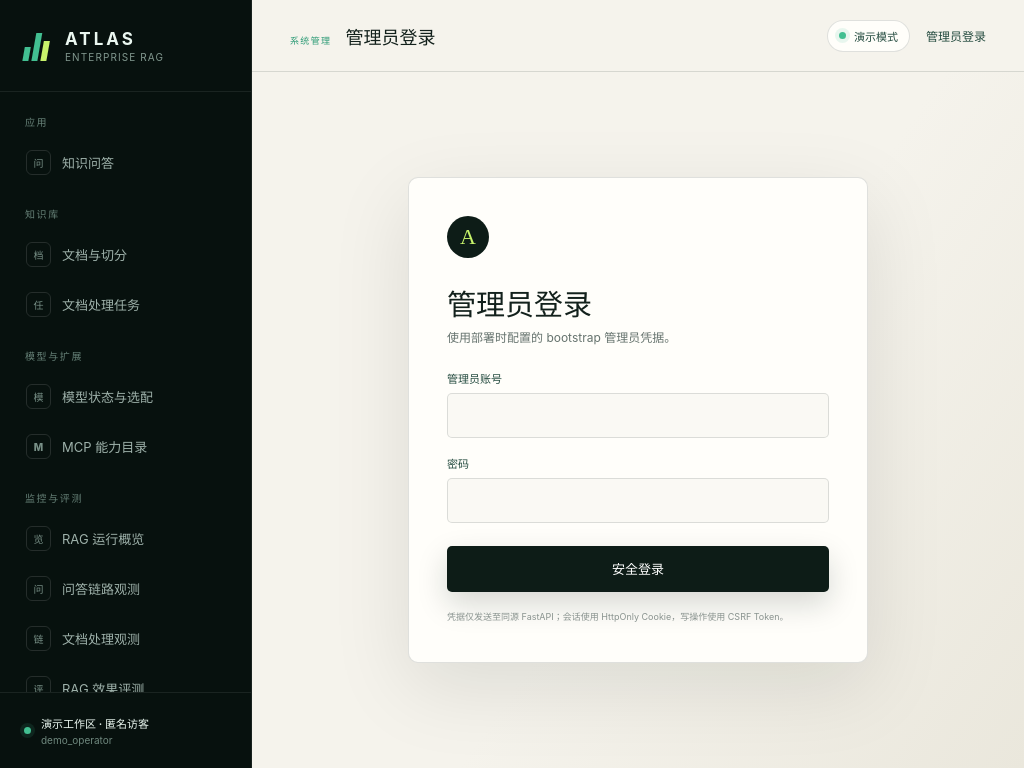
application shell and authorization › logs in and returns to the originally requested system route
The width and height of the screenshot is (1024, 768).
In the field named "email": (638, 415) [447,393,829,438], type "admin@example.test"
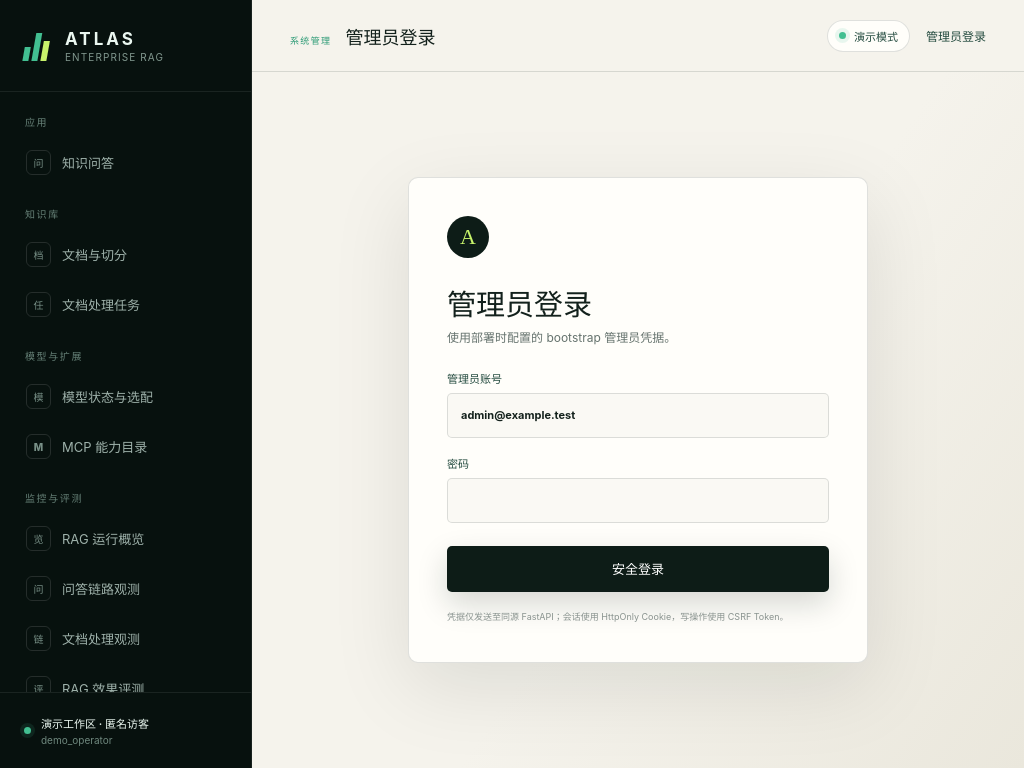
In the password field named "password": (638, 500) [447,478,829,523], type "correct-password"
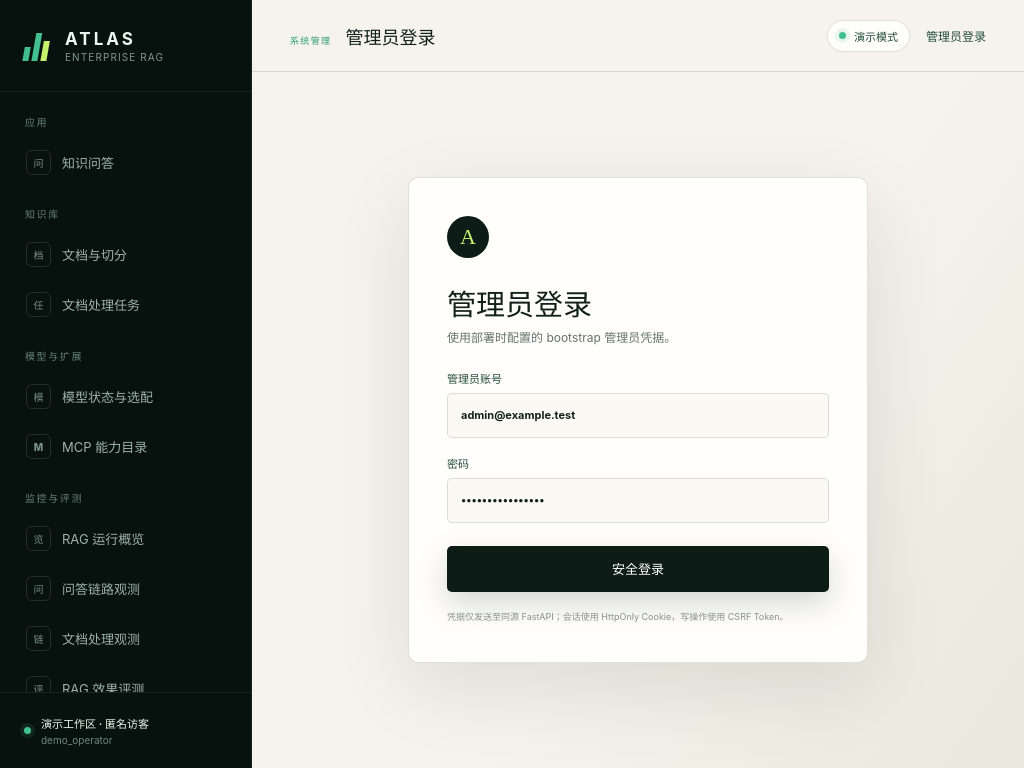
Submit the form with test id "login-form", box [408,177,868,663]
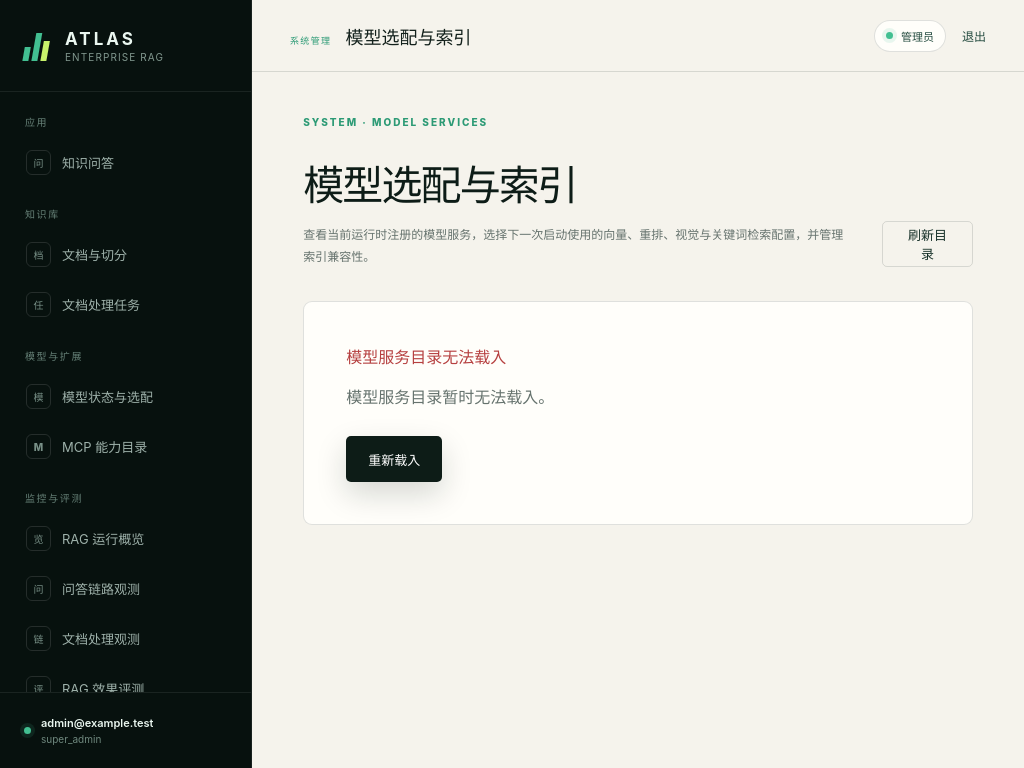
Expected: the text with class "topbar__eyebrow" reads "系统管理", [290,34,331,46]
Expected: the text "模型选配与索引" is shown, [345,22,471,48]
